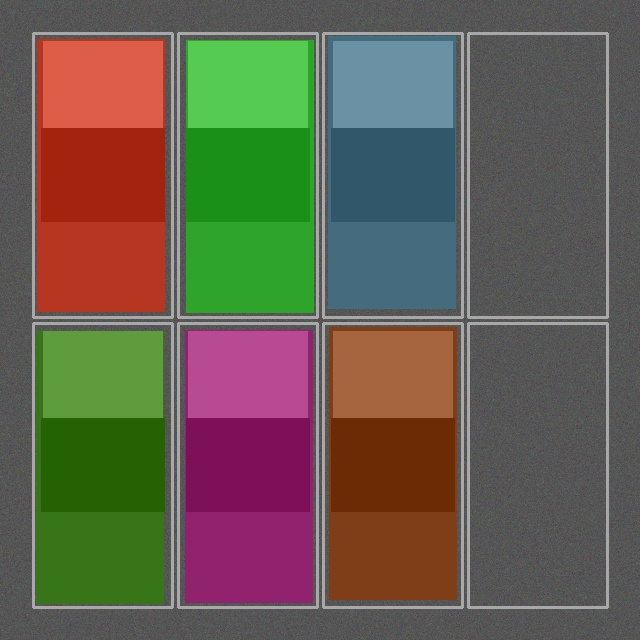space-empty: (470, 35, 605, 315), (470, 325, 605, 605)
space-occupied: (35, 35, 170, 315), (180, 35, 315, 315), (325, 35, 460, 315), (35, 325, 170, 605), (180, 325, 315, 605), (325, 325, 460, 605)
